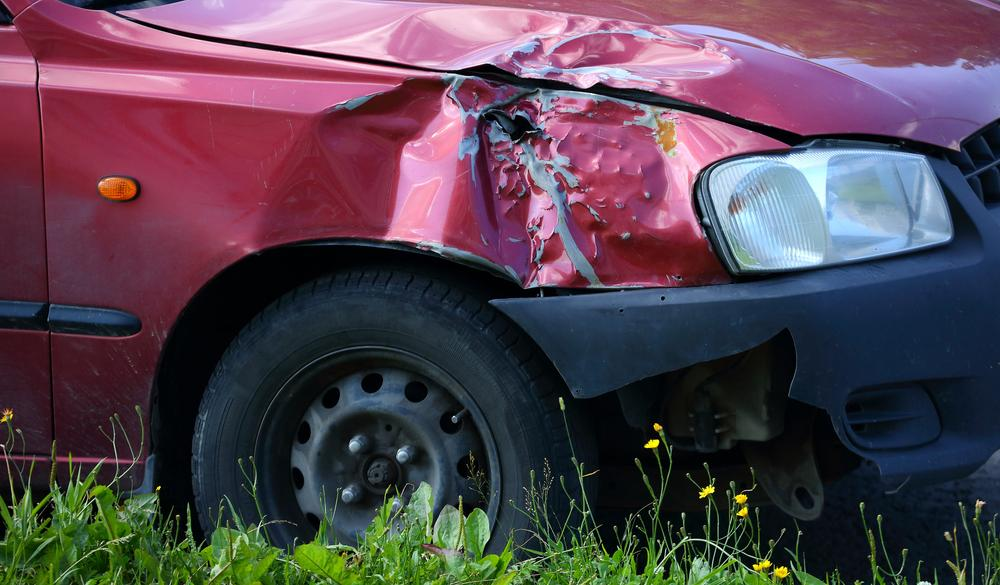dent: (254, 76, 723, 290), (390, 9, 739, 87)
